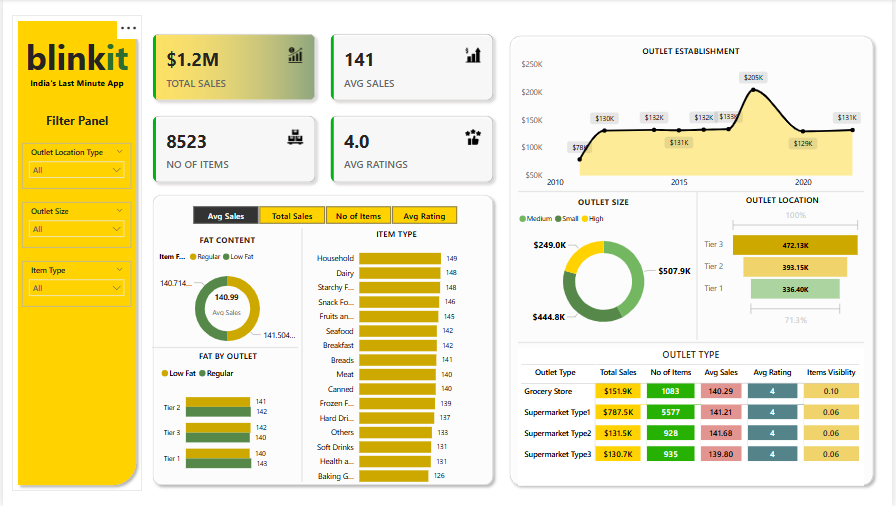

Layout of this report page (visuals, bound fields, positions):
{"tool":"powerbi","page":{"name":"Page 1","canvas":[1400,800],"ordinal":0},"visuals":[{"type":"shape","box":[14.2,25.2,204.7,749.6],"z":0},{"type":"textbox","box":[14.2,48.8,204.7,86.6],"z":1000},{"type":"textbox","box":[14.2,118.1,204.7,34.6],"z":2000},{"type":"cardVisual","fields":{"Data":["BlinkIT Grocery Data.Total Sales","BlinkIT Grocery Data.Avg Sales","BlinkIT Grocery Data.No of Items","BlinkIT Grocery Data.Avg Rating"]},"box":[218.9,37.8,570.1,269.3],"z":3000},{"type":"shape","box":[226.8,299.2,554.3,475.6],"z":4000},{"type":"donutChart","title":"FAT CONTENT","fields":{"Y":["BlinkIT Grocery Data.Avg Sales"],"Category":["BlinkIT Grocery Data.Item Fat Content"]},"box":[240.9,370.1,225.2,190.6],"z":5000},{"type":"slicer","fields":{"Values":["Metrics.Metrics"]},"box":[274,319.7,465,40],"z":6000},{"type":"cardVisual","fields":{"Data":["BlinkIT Grocery Data.Avg Sales"]},"box":[302.4,444.1,99.2,59.8],"z":7000},{"type":"clusteredBarChart","title":"FAT BY OUTLET","fields":{"Y":["BlinkIT Grocery Data.Avg Sales"],"Category":["BlinkIT Grocery Data.Outlet Location Type"],"Series":["BlinkIT Grocery Data.Item Fat Content"]},"box":[244.1,552.8,220.5,209.4],"z":8000},{"type":"shape","box":[234.6,537,229.9,23.6],"z":9000},{"type":"shape","box":[464.6,360.6,12.6,400],"z":10000},{"type":"barChart","title":"ITEM TYPE","fields":{"Y":["BlinkIT Grocery Data.Avg Sales"],"Category":["BlinkIT Grocery Data.Item Type"]},"box":[477.2,360.6,285,414.2],"z":11000},{"type":"shape","box":[789,48.8,590.6,726],"z":12000},{"type":"lineChart","title":"OUTLET ESTABLISHMENT","fields":{"Y":["BlinkIT Grocery Data.Total Sales"],"Category":["BlinkIT Grocery Data.Outlet Establishment Year"]},"box":[811,72.4,544.9,234.6],"z":13000},{"type":"shape","box":[811,299.2,544.9,7.9],"z":14000},{"type":"donutChart","title":"OUTLET SIZE","fields":{"Y":["BlinkIT Grocery Data.Total Sales"],"Category":["BlinkIT Grocery Data.Outlet Size"]},"box":[807.9,310.2,275.6,225.2],"z":15000},{"type":"shape","box":[1086.6,303.9,12.6,233.1],"z":16000},{"type":"funnel","title":"OUTLET LOCATION","fields":{"Y":["Sum(BlinkIT Grocery Data.Sales)"],"Category":["BlinkIT Grocery Data.Outlet Location Type"]},"box":[1099.2,307.1,256.7,212.6],"z":17000},{"type":"shape","box":[811,537,544.9,7.9],"z":18000},{"type":"pivotTable","title":"OUTLET TYPE","fields":{"Rows":["BlinkIT Grocery Data.Outlet Type"],"Values":["BlinkIT Grocery Data.Total Sales","BlinkIT Grocery Data.No of Items","BlinkIT Grocery Data.Avg Sales","BlinkIT Grocery Data.Avg Rating","Avg(BlinkIT Grocery Data.Item Visibility)"]},"box":[811,549.6,544.9,217.3],"z":19000},{"type":"slicer","fields":{"Values":["BlinkIT Grocery Data.Outlet Location Type"]},"box":[29.9,226.8,171.7,72.4],"z":20000},{"type":"slicer","fields":{"Values":["BlinkIT Grocery Data.Outlet Size"]},"box":[29.9,319.7,171.7,72.4],"z":21000},{"type":"slicer","fields":{"Values":["BlinkIT Grocery Data.Item Type"]},"box":[29.9,412.6,171.7,72.4],"z":22000},{"type":"textbox","box":[36.2,173.2,160.6,34.6],"z":23000}]}

Visuals, with their boxes in screenshot pixels (x1, y1, x2, y2), scaled from the page's 1400x800 canvas onto the 896x506 screenshot:
shape: pyautogui.locateOnScreen(9, 16, 140, 490)
textbox: pyautogui.locateOnScreen(9, 31, 140, 86)
textbox: pyautogui.locateOnScreen(9, 75, 140, 97)
cardVisual - BlinkIT Grocery Data.Total Sales x BlinkIT Grocery Data.Avg Sales: pyautogui.locateOnScreen(140, 24, 505, 194)
shape: pyautogui.locateOnScreen(145, 189, 500, 490)
"FAT CONTENT" donutChart: pyautogui.locateOnScreen(154, 234, 298, 355)
slicer - Metrics.Metrics: pyautogui.locateOnScreen(175, 202, 473, 228)
cardVisual - BlinkIT Grocery Data.Avg Sales: pyautogui.locateOnScreen(194, 281, 257, 319)
"FAT BY OUTLET" clusteredBarChart: pyautogui.locateOnScreen(156, 350, 297, 482)
shape: pyautogui.locateOnScreen(150, 340, 297, 355)
shape: pyautogui.locateOnScreen(297, 228, 305, 481)
"ITEM TYPE" barChart: pyautogui.locateOnScreen(305, 228, 488, 490)
shape: pyautogui.locateOnScreen(505, 31, 883, 490)
"OUTLET ESTABLISHMENT" lineChart: pyautogui.locateOnScreen(519, 46, 868, 194)
shape: pyautogui.locateOnScreen(519, 189, 868, 194)
"OUTLET SIZE" donutChart: pyautogui.locateOnScreen(517, 196, 693, 339)
shape: pyautogui.locateOnScreen(695, 192, 703, 340)
"OUTLET LOCATION" funnel: pyautogui.locateOnScreen(703, 194, 868, 329)
shape: pyautogui.locateOnScreen(519, 340, 868, 345)
"OUTLET TYPE" pivotTable: pyautogui.locateOnScreen(519, 348, 868, 485)
slicer - BlinkIT Grocery Data.Outlet Location Type: pyautogui.locateOnScreen(19, 143, 129, 189)
slicer - BlinkIT Grocery Data.Outlet Size: pyautogui.locateOnScreen(19, 202, 129, 248)
slicer - BlinkIT Grocery Data.Item Type: pyautogui.locateOnScreen(19, 261, 129, 307)
textbox: pyautogui.locateOnScreen(23, 110, 126, 131)
